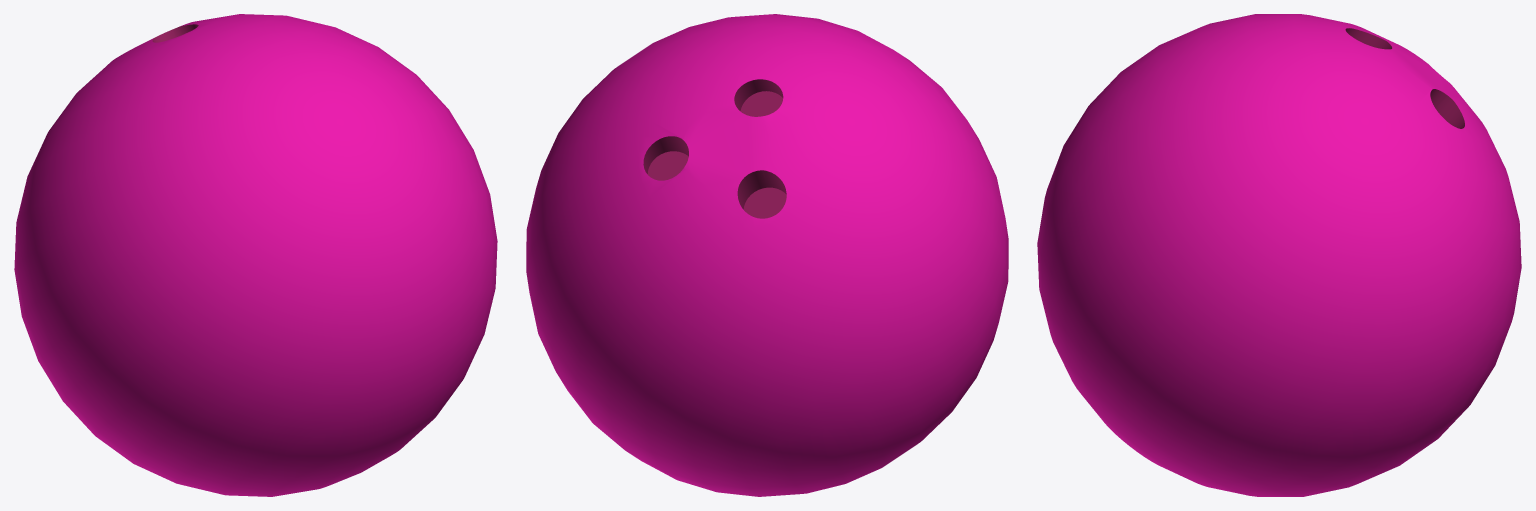
The model's file is Ball.fbx.
The picture shows the model from 3 angles, left to right: view 1: azimuth 30°, elevation 25°; view 2: azimuth 150°, elevation 25°; view 3: azimuth 270°, elevation 25°; orthographic projection.
Parts seen in each view (by area): view 1: Sphere; view 2: Sphere; view 3: Sphere.
Boxes of the visible parts, x1,y1,x2,y2 form: Sphere: [14, 14, 497, 496]; Sphere: [526, 14, 1008, 496]; Sphere: [1037, 14, 1521, 496].
Bounding box in the file's own units: 199 × 199 × 200.
